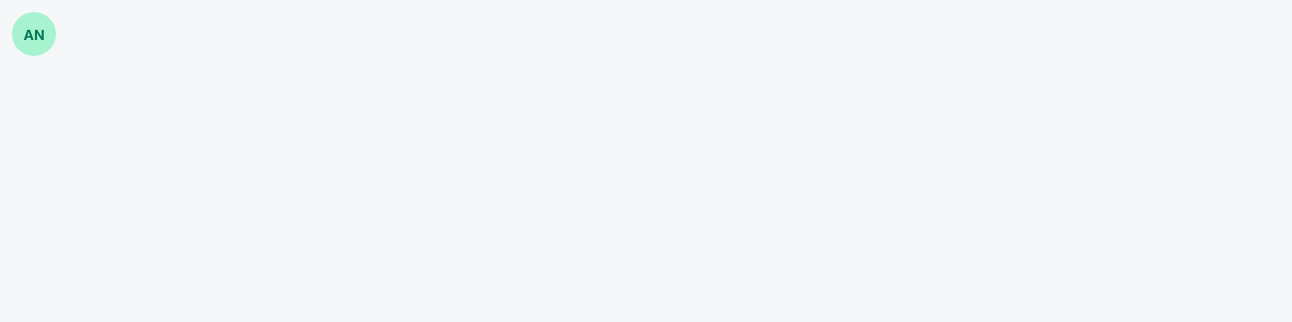
Test: the menu entry › shows "¿Qué te faltó?" only when the server says the account is eligible
Click the button with aria-label "Cuenta": [34, 34] box [12,12,56,56]
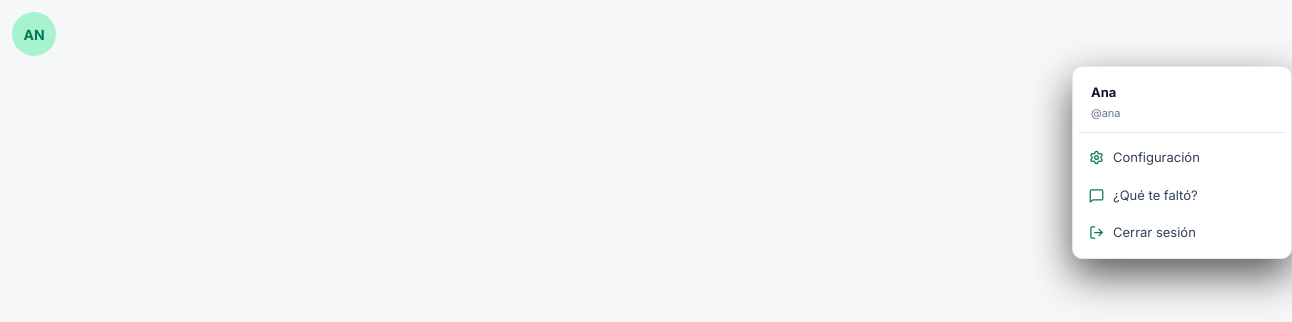
Result: the menu item "¿Qué te faltó?" is shown at [1079,176,1208,214]
